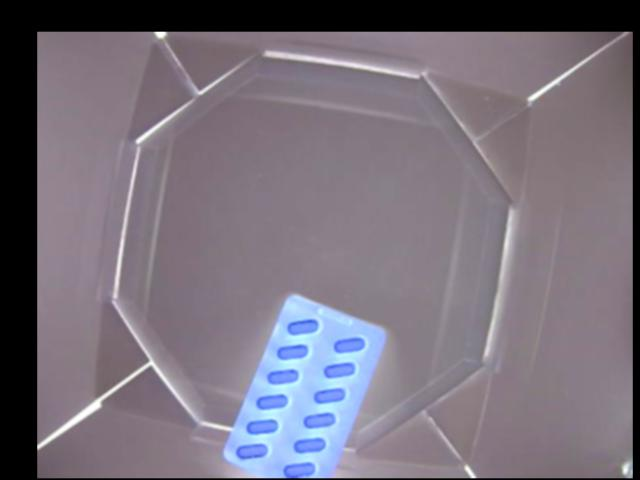Medicine: (223, 296, 388, 478)
